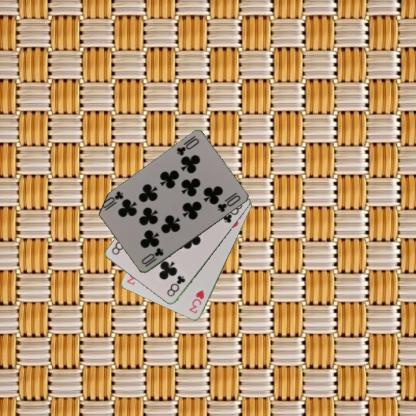10c: (174, 134, 200, 157), (138, 246, 164, 268)
3h: (186, 288, 206, 315)
8c: (164, 273, 187, 298)
